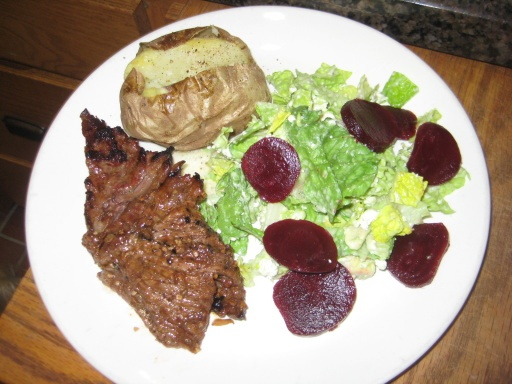background: (63, 14, 377, 212)
